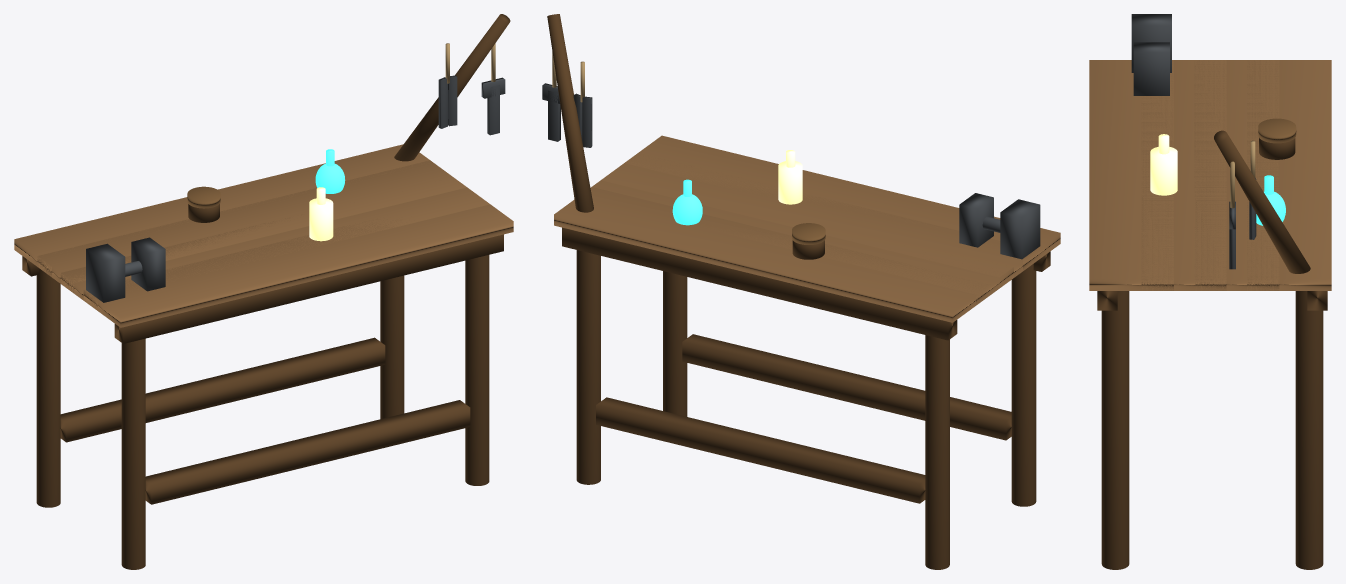
The model's file is 3D模型 props_workbench.glb.
The picture shows the model from 3 angles, left to right: view 1: azimuth 30°, elevation 25°; view 2: azimuth 150°, elevation 25°; view 3: azimuth 270°, elevation 25°; orthographic projection. The views are drawn at different scales.
Visible parts, largest first — view 1: part_top_0, part_top_2, part_stretch_0, part_stretch_1, part_top_3, part_top_1, part_rail_0, part_leg_1, part_leg_3, part_leg_2, part_leg_0, part_arm (+5 smaller); view 2: part_top_3, part_top_1, part_stretch_1, part_top_0, part_stretch_0, part_rail_1, part_top_2, part_leg_3, part_leg_1, part_leg_0, part_leg_2, part_arm (+5 smaller); view 3: part_top_0, part_top_1, part_top_3, part_top_2, part_leg_2, part_leg_0, part_arm, part_vise_move, part_vise_fixed, part_bottle_a, part_jar_lid, part_jar (+3 smaller).
Part boxes in pixels (x1,y1,x2,y2): part_top_0: [83, 204, 513, 327]; part_top_2: [37, 160, 466, 292]; part_stretch_0: [145, 400, 470, 504]; part_stretch_1: [60, 337, 385, 442]; part_top_3: [14, 144, 429, 276]; part_top_1: [60, 187, 489, 307]; part_rail_0: [114, 234, 503, 343]; part_leg_1: [36, 268, 60, 507]; part_leg_3: [121, 338, 145, 569]; part_leg_2: [465, 255, 489, 485]; part_leg_0: [380, 275, 404, 419]; part_arm: [394, 14, 510, 161]; part_top_3: [554, 187, 989, 322]; part_top_1: [601, 153, 1036, 277]; part_stretch_1: [596, 397, 925, 503]; part_top_0: [624, 135, 1060, 270]; part_stretch_0: [682, 334, 1011, 440]; part_rail_1: [562, 227, 957, 340]; part_top_2: [592, 180, 1013, 305]; part_leg_3: [1011, 264, 1036, 506]; part_leg_1: [925, 335, 949, 569]; part_leg_0: [576, 250, 600, 484]; part_leg_2: [663, 271, 687, 416]; part_arm: [547, 14, 593, 212]; part_top_0: [1089, 60, 1173, 290]; part_top_1: [1141, 60, 1226, 290]; part_top_3: [1247, 60, 1331, 290]; part_top_2: [1194, 60, 1279, 290]; part_leg_2: [1101, 291, 1129, 569]; part_leg_0: [1295, 291, 1323, 569]; part_arm: [1214, 130, 1310, 273]; part_vise_move: [1133, 42, 1169, 95]; part_vise_fixed: [1131, 14, 1171, 72]; part_bottle_a: [1150, 147, 1177, 195]; part_jar_lid: [1258, 118, 1296, 143]; part_jar: [1259, 138, 1295, 159].
Bounding box in the file's own units: 1.46 × 1.29 × 0.6.
